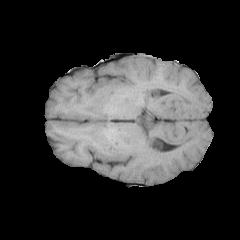glioma: (91, 83, 166, 126)
